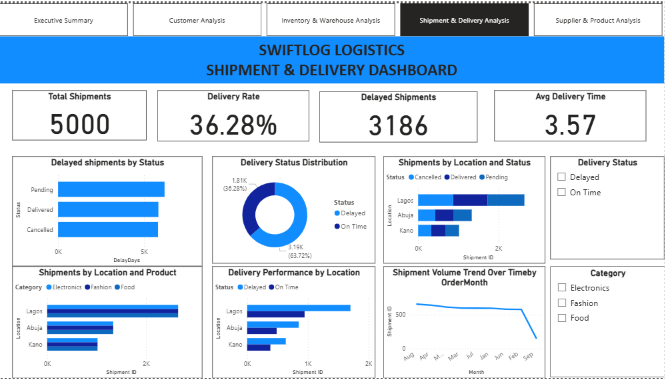

The page's visual inventory and layout, read from the dashboard file:
{"tool":"powerbi","page":{"name":"Shipment & Delivery Analysis","canvas":[1280,720],"ordinal":3},"visuals":[{"type":"textbox","box":[0,63.5,1278.8,90.4],"z":0},{"type":"donutChart","title":"Delivery Status Distribution","fields":{"Category":["SwiftLog_Delivery_Performance.Status"],"Y":["CountNonNull(SwiftLog_Delivery_Performance.ShipmentID)"]},"box":[409.6,294.2,313.5,205.8],"z":1},{"type":"barChart","title":"Delayed shipments by Status","fields":{"Y":["Sum(SwiftLog_Shipments.DelayDays)"],"Category":["SwiftLog_Orders.Status"]},"box":[25,294.2,365.4,211.5],"z":2},{"type":"clusteredBarChart","title":"Delivery Performance by Location","fields":{"Category":["SwiftLog_Warehouses.Location"],"Series":["SwiftLog_Delivery_Performance.Status"],"Y":["CountNonNull(SwiftLog_Shipments.ShipmentID)"]},"box":[409.6,505.8,313.5,215.4],"z":3},{"type":"card","title":"Avg Delivery Time","fields":{"Values":["SwiftLog_Customers.Average Delivery Delay"]},"box":[951.9,167.3,292.3,98.1],"z":4},{"type":"lineChart","title":"Shipment Volume Trend Over Timeby OrderMonth","fields":{"Category":["SwiftLog_Orders.OrderMonth"],"Y":["Count(SwiftLog_Delivery_Performance.ShipmentID)"]},"box":[738.5,505.8,311.5,215.4],"z":5},{"type":"clusteredBarChart","title":"Shipments by Location and Product ","fields":{"Category":["SwiftLog_Warehouses.Location"],"Y":["CountNonNull(SwiftLog_Delivery_Performance.ShipmentID)"],"Series":["SwiftLog_Products.Category"]},"box":[25,505.8,365.4,215.4],"z":6},{"type":"card","title":"Total Shipments","fields":{"Values":["SwiftLog_Customers.Total Shipments"]},"box":[25,167.3,257.7,96.2],"z":7},{"type":"card","title":"Delivery Rate","fields":{"Values":["SwiftLog_Customers.On-Time Delivery Rate"]},"box":[303.8,167.3,292.3,98.1],"z":8},{"type":"card","title":"Delayed Shipments","fields":{"Values":["SwiftLog_Customers.Total Delayed Shipments"]},"box":[615.4,169.2,303.8,98.1],"z":9},{"type":"slicer","title":"Delivery Status","fields":{"Values":["SwiftLog_Delivery_Performance.Status"]},"box":[1059.6,294.2,219.2,198.1],"z":11},{"type":"barChart","title":"Shipments by Location and Status","fields":{"Category":["SwiftLog_Warehouses.Location"],"Series":["SwiftLog_Orders.Status"],"Y":["CountNonNull(SwiftLog_Delivery_Performance.ShipmentID)"]},"box":[738.5,294.2,311.5,205.8],"z":12},{"type":"pageNavigator","box":[0,0,1278.8,63.5],"z":13},{"type":"slicer","title":"Category","fields":{"Values":["SwiftLog_Products.Category"]},"box":[1059.6,505.8,221.2,213.5],"z":14}]}

Visuals, with their boxes in screenshot pixels (x1, y1, x2, y2), scaled from the page's 1280x720 canvas onto the 665x379 screenshot:
textbox: region(0, 33, 664, 81)
"Delivery Status Distribution" donutChart: region(213, 155, 376, 263)
"Delayed shipments by Status" barChart: region(13, 155, 203, 266)
"Delivery Performance by Location" clusteredBarChart: region(213, 266, 376, 378)
"Avg Delivery Time" card: region(495, 88, 646, 140)
"Shipment Volume Trend Over Timeby OrderMonth" lineChart: region(384, 266, 546, 378)
"Shipments by Location and Product " clusteredBarChart: region(13, 266, 203, 378)
"Total Shipments" card: region(13, 88, 147, 139)
"Delivery Rate" card: region(158, 88, 310, 140)
"Delayed Shipments" card: region(320, 89, 478, 141)
"Delivery Status" slicer: region(550, 155, 664, 259)
"Shipments by Location and Status" barChart: region(384, 155, 546, 263)
pageNavigator: region(0, 0, 664, 33)
"Category" slicer: region(550, 266, 664, 378)
